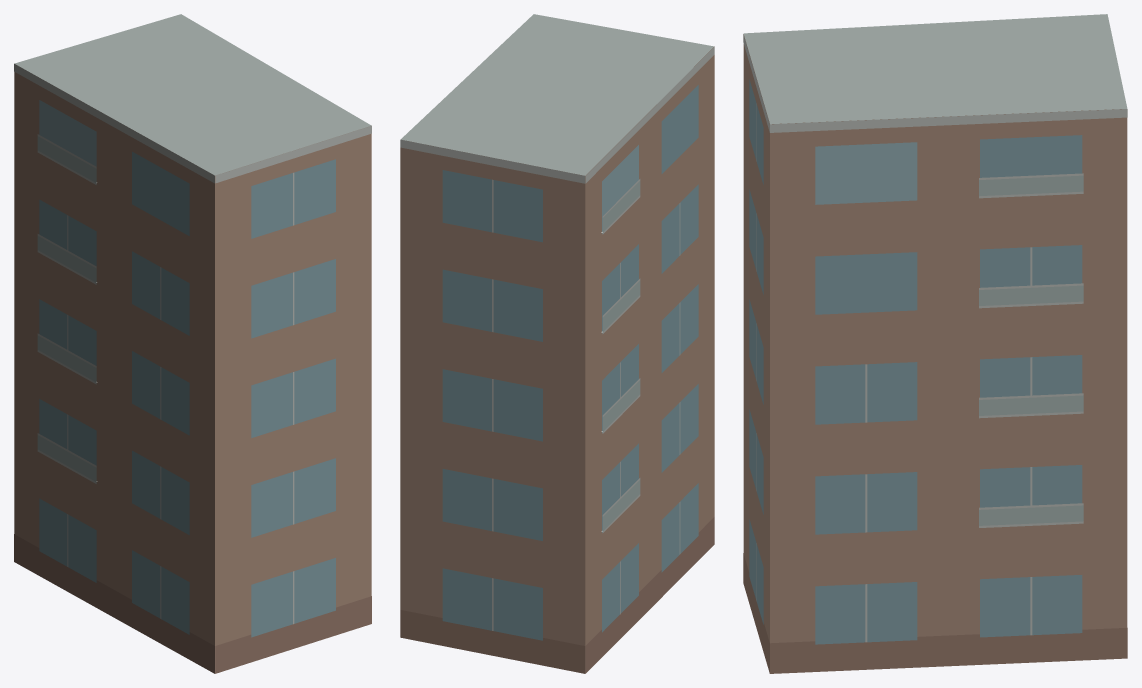
Rendered from survey-upis-32789600.glb.
3 views of the same model, side by side, from view 1: azimuth 30°, elevation 25°; view 2: azimuth 150°, elevation 25°; view 3: azimuth 270°, elevation 25° (orthographic). The views are drawn at different scales.
Visible parts, largest first — view 1: survey-upis-32789600.tmp; view 2: survey-upis-32789600.tmp; view 3: survey-upis-32789600.tmp.
Part boxes in pixels (x1,y1,x2,y2): survey-upis-32789600.tmp: [14, 14, 371, 673]; survey-upis-32789600.tmp: [400, 14, 714, 673]; survey-upis-32789600.tmp: [743, 14, 1127, 673].
Size of the model in its own units: 6.57 by 15.25 by 9.67.
